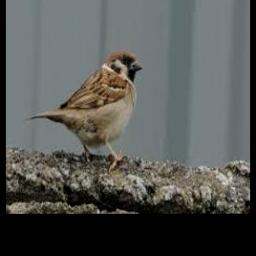Sparrow: (27, 51, 143, 169)
